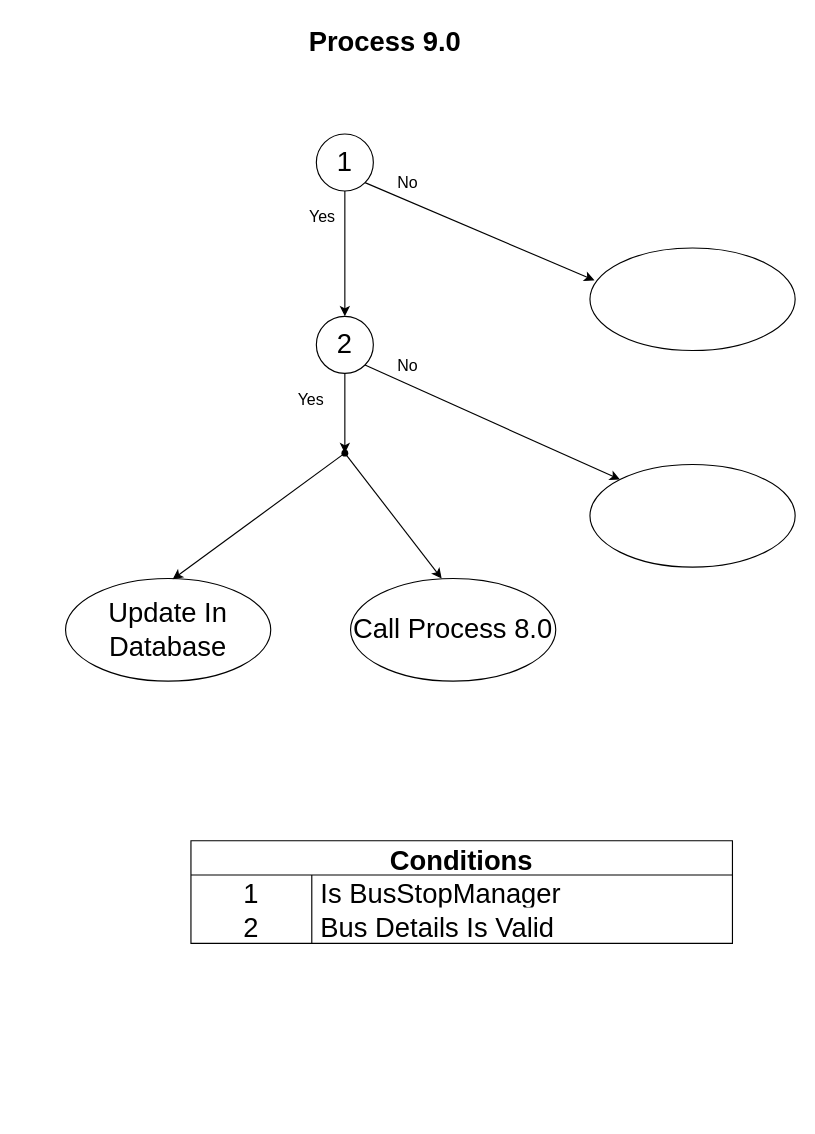
This 815x1134 diagram has some shape labels left out. Each missing label, with the centre of its shape:
"return BadRequest" goes at (x=692, y=515).
"return UnAuthorized" goes at (x=692, y=299).
